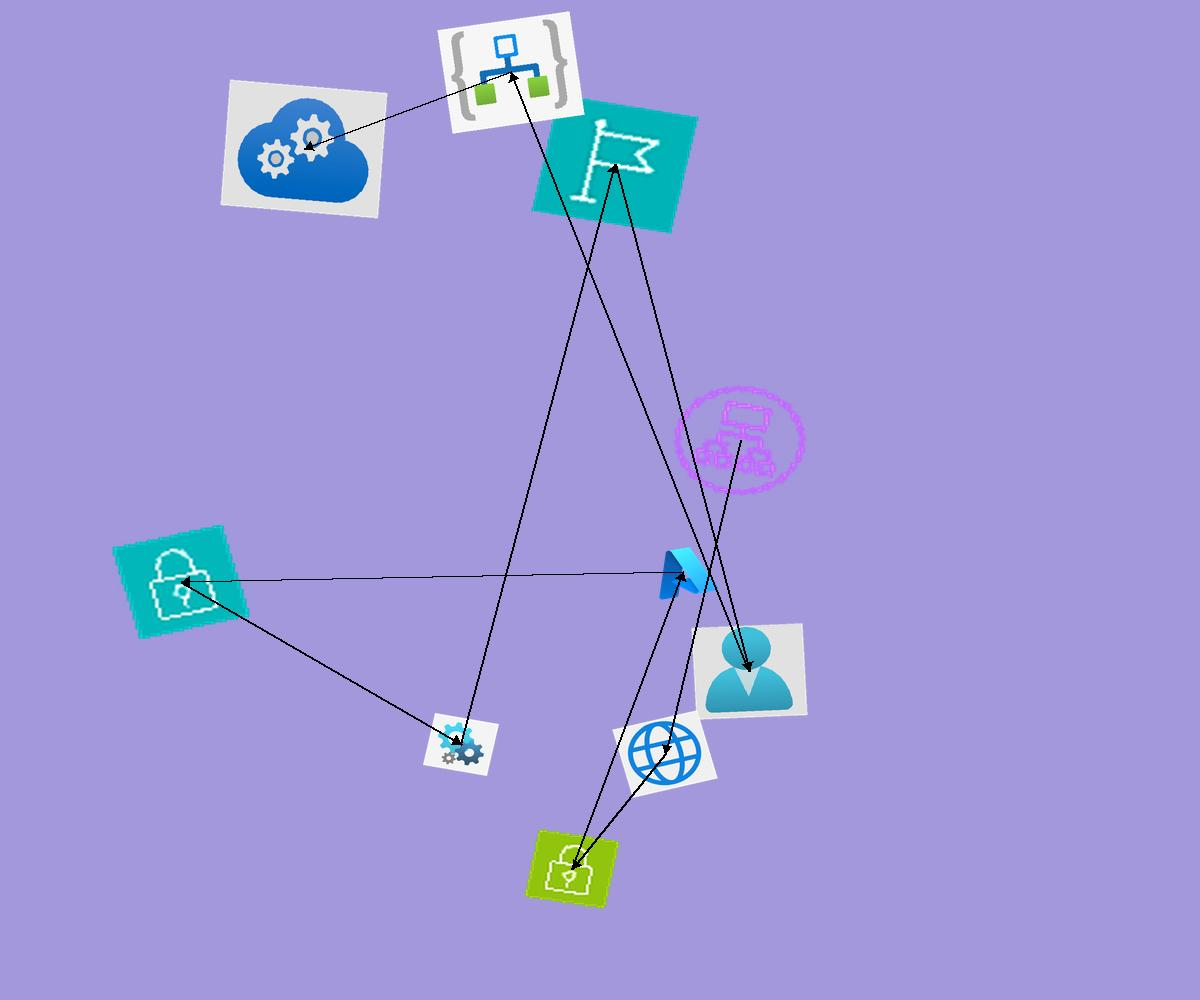AWS-Private-subnet: (110, 523, 252, 641)
AWS-Public-subnet: (523, 828, 621, 910)
AWS-Region: (530, 93, 700, 235)
AWS-Res_Elastic-Load-Balancing_Application-Load-Balancer: (654, 369, 826, 512)
Azure_api: (423, 713, 499, 776)
Azure_cloud_services: (220, 79, 388, 219)
Azure_http: (612, 710, 718, 798)
Azure_integration-204-Logic-Apps: (437, 11, 585, 134)
Azure_services: (645, 540, 722, 604)
Azure_users: (691, 623, 808, 720)
